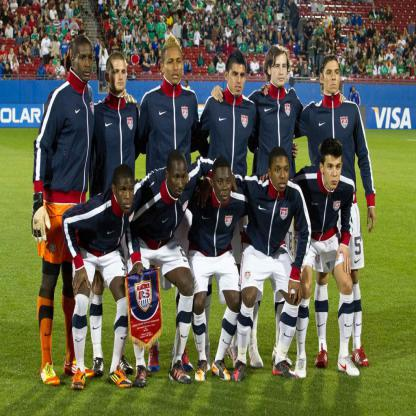face: (75, 44, 94, 81), (165, 49, 184, 86), (169, 161, 187, 198), (273, 157, 291, 192), (214, 167, 232, 202), (117, 178, 135, 213), (325, 156, 343, 190), (110, 60, 128, 91), (229, 63, 246, 95), (272, 53, 288, 87), (324, 61, 340, 94), (7, 64, 10, 70), (50, 61, 53, 67), (57, 30, 60, 36), (3, 47, 6, 53), (68, 31, 71, 37), (221, 39, 224, 45), (269, 16, 272, 22), (266, 6, 269, 12), (371, 54, 374, 60), (361, 30, 364, 36), (111, 25, 114, 30), (41, 23, 44, 28), (31, 16, 34, 21), (34, 42, 37, 47), (270, 33, 273, 38), (278, 33, 281, 38), (263, 34, 266, 39), (58, 62, 61, 67), (353, 87, 356, 92), (391, 64, 394, 69), (364, 54, 367, 59), (254, 58, 257, 63), (145, 55, 148, 60), (159, 51, 162, 56), (143, 50, 146, 55), (40, 64, 43, 69), (30, 10, 33, 15), (45, 12, 48, 17), (29, 58, 32, 63), (1, 55, 4, 60), (186, 82, 189, 87), (149, 44, 152, 49), (150, 13, 153, 18), (162, 39, 165, 44), (176, 14, 179, 19), (189, 26, 192, 31), (196, 23, 199, 28), (201, 2, 204, 7), (212, 14, 215, 19), (223, 4, 226, 9), (219, 58, 222, 63), (223, 54, 226, 59), (221, 52, 224, 57), (247, 34, 250, 39), (229, 6, 232, 11), (272, 9, 275, 14), (286, 34, 289, 39), (305, 65, 308, 70), (300, 59, 303, 64), (307, 23, 310, 28), (388, 49, 391, 54), (401, 36, 404, 41), (403, 63, 406, 68), (399, 62, 402, 67), (387, 4, 389, 11), (133, 19, 135, 25), (64, 54, 66, 60), (51, 29, 53, 35), (7, 24, 10, 28), (20, 60, 23, 64), (81, 25, 84, 29), (113, 5, 116, 9), (133, 70, 136, 74), (163, 2, 166, 6), (211, 19, 213, 25), (219, 20, 222, 24), (211, 62, 214, 66), (235, 10, 238, 14), (264, 21, 267, 25), (257, 7, 259, 13), (290, 41, 292, 47), (312, 72, 315, 76), (333, 42, 336, 46), (356, 61, 358, 67), (356, 25, 359, 29), (381, 50, 384, 54), (388, 40, 391, 44), (413, 31, 415, 37), (395, 54, 397, 60), (400, 56, 403, 60), (115, 39, 117, 44), (136, 25, 138, 30), (137, 13, 139, 18), (109, 20, 111, 25), (115, 12, 117, 17), (127, 31, 129, 36), (42, 31, 44, 36), (35, 30, 37, 35), (20, 47, 22, 52), (25, 31, 27, 36), (19, 31, 21, 36), (268, 42, 270, 47), (257, 33, 259, 38), (55, 55, 57, 60), (385, 62, 387, 67), (152, 52, 154, 57), (135, 50, 137, 55), (155, 38, 157, 43), (128, 55, 130, 60), (127, 44, 129, 49), (28, 49, 30, 54), (61, 6, 63, 11), (57, 16, 59, 21), (51, 22, 53, 27), (38, 44, 40, 49), (16, 57, 18, 62), (66, 25, 68, 30), (65, 15, 67, 20), (71, 4, 73, 9), (101, 45, 103, 50), (122, 36, 124, 41), (134, 44, 136, 49), (147, 38, 149, 43), (145, 25, 147, 30), (106, 6, 108, 11), (145, 6, 147, 11), (147, 14, 149, 19), (151, 18, 153, 23), (159, 44, 161, 49), (161, 18, 163, 23), (201, 53, 203, 58), (181, 6, 183, 11), (186, 12, 188, 17), (203, 10, 205, 15), (219, 2, 221, 7), (211, 41, 213, 46), (222, 26, 224, 31), (258, 54, 260, 59), (250, 70, 252, 75), (228, 26, 230, 31), (245, 26, 247, 31), (249, 20, 251, 25), (234, 3, 236, 8), (239, 14, 241, 19), (267, 25, 269, 30), (276, 26, 278, 31), (286, 22, 288, 27), (290, 28, 292, 33), (296, 67, 298, 72), (293, 66, 295, 71), (301, 46, 303, 51), (299, 41, 301, 46), (310, 59, 312, 64), (318, 36, 320, 41), (330, 34, 332, 39), (342, 52, 344, 57), (340, 59, 342, 64), (349, 54, 351, 59), (355, 41, 357, 46), (373, 5, 375, 10), (359, 47, 361, 52), (371, 42, 373, 47), (377, 30, 379, 35), (379, 41, 381, 46), (364, 63, 366, 68), (394, 26, 396, 31), (410, 38, 412, 43), (408, 43, 410, 48), (410, 63, 412, 68), (411, 51, 413, 56), (389, 60, 391, 65), (378, 64, 380, 69), (329, 11, 331, 16), (46, 37, 49, 40), (76, 5, 79, 8), (141, 21, 144, 24), (187, 60, 190, 63), (180, 21, 183, 24), (251, 43, 254, 46), (254, 17, 257, 20), (121, 30, 123, 34), (46, 18, 48, 22), (369, 61, 371, 65), (17, 17, 19, 21), (16, 12, 18, 16), (5, 12, 7, 16), (24, 17, 26, 21), (21, 15, 23, 19), (26, 25, 28, 29), (47, 4, 49, 8), (54, 6, 56, 10), (74, 18, 76, 22), (98, 39, 100, 43), (119, 26, 121, 30), (124, 12, 126, 16), (132, 37, 134, 41), (137, 31, 139, 35), (145, 33, 147, 37), (120, 8, 122, 12), (104, 1, 106, 5), (137, 6, 139, 10), (129, 6, 131, 10), (154, 14, 156, 18), (151, 1, 153, 5), (168, 30, 170, 34), (169, 13, 171, 17), (174, 9, 176, 13), (197, 5, 199, 9), (202, 25, 204, 29), (206, 21, 208, 25), (209, 12, 211, 16), (213, 8, 215, 12), (218, 55, 220, 59), (223, 33, 225, 37), (260, 41, 262, 45), (244, 37, 246, 41), (225, 16, 227, 20), (232, 15, 234, 19), (243, 9, 245, 13), (247, 15, 249, 19), (257, 21, 259, 25), (260, 28, 262, 32), (272, 21, 274, 25), (256, 1, 258, 5), (280, 22, 282, 26), (275, 15, 277, 19), (313, 36, 315, 40), (324, 28, 326, 32), (317, 26, 319, 30), (347, 62, 349, 66), (351, 33, 353, 37), (355, 33, 357, 37), (331, 22, 333, 26), (336, 12, 338, 16), (348, 42, 350, 46), (382, 8, 384, 12), (364, 24, 366, 28), (371, 24, 373, 28), (389, 26, 391, 30), (406, 31, 408, 35), (65, 40, 67, 43), (11, 51, 13, 54), (16, 27, 18, 30), (39, 15, 41, 18), (75, 32, 77, 35), (74, 28, 76, 31), (131, 13, 133, 16), (127, 27, 129, 30), (194, 2, 196, 5), (201, 16, 203, 19), (197, 10, 199, 13), (214, 26, 216, 29), (210, 2, 212, 5), (221, 11, 223, 14), (227, 40, 229, 43), (261, 64, 263, 67), (232, 34, 234, 37), (249, 5, 251, 8), (261, 16, 263, 19), (252, 28, 254, 31), (283, 19, 285, 22), (320, 37, 322, 40), (352, 49, 354, 52), (349, 15, 351, 18), (357, 13, 359, 16), (352, 39, 354, 42), (365, 72, 367, 75), (382, 39, 384, 42), (1, 23, 2, 28), (238, 25, 239, 30), (412, 20, 413, 25), (140, 37, 141, 41), (178, 40, 180, 42), (193, 17, 194, 21), (190, 15, 191, 19), (241, 33, 242, 37), (314, 1, 316, 3), (374, 48, 375, 52), (43, 3, 44, 6), (304, 17, 305, 20), (311, 16, 312, 19), (326, 15, 327, 18), (339, 24, 340, 27), (343, 14, 344, 17), (348, 34, 349, 37), (321, 1, 322, 3)
